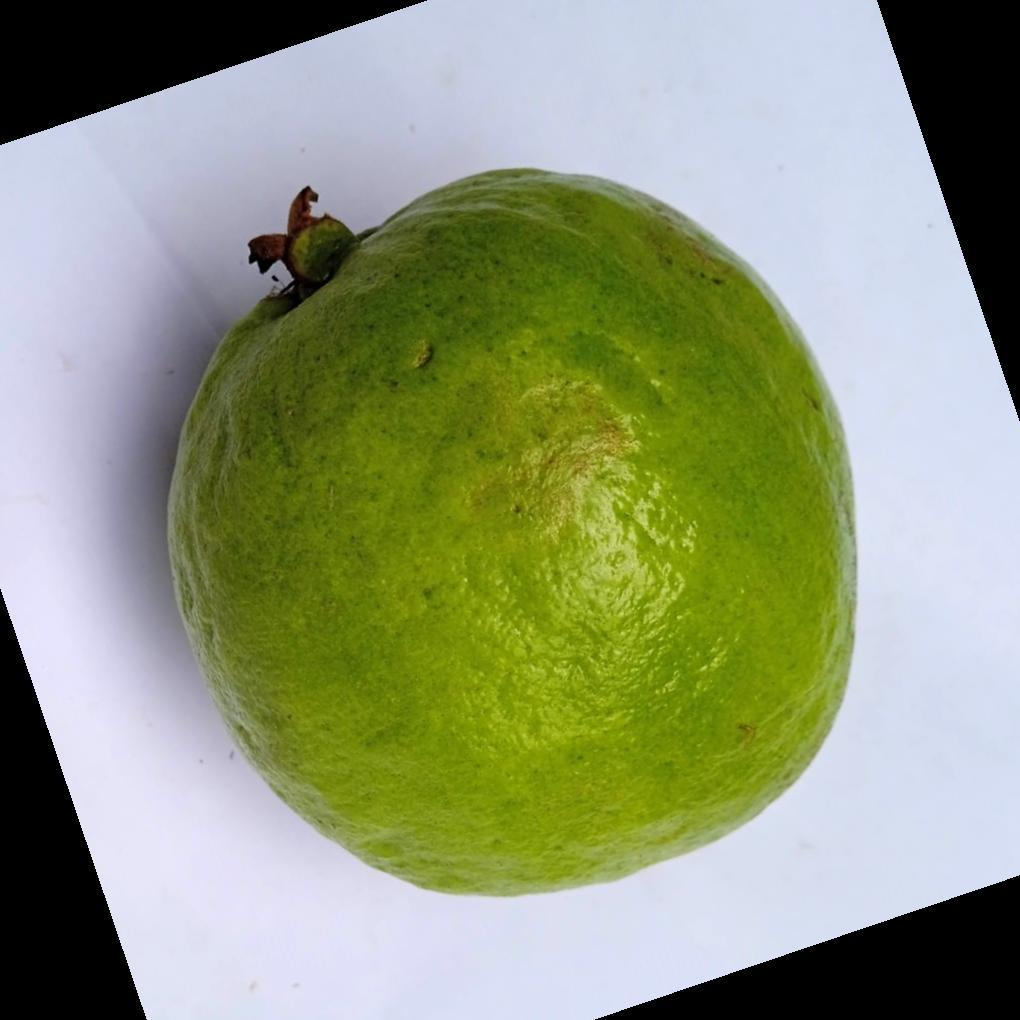FreshGuava: (165, 169, 860, 903)
